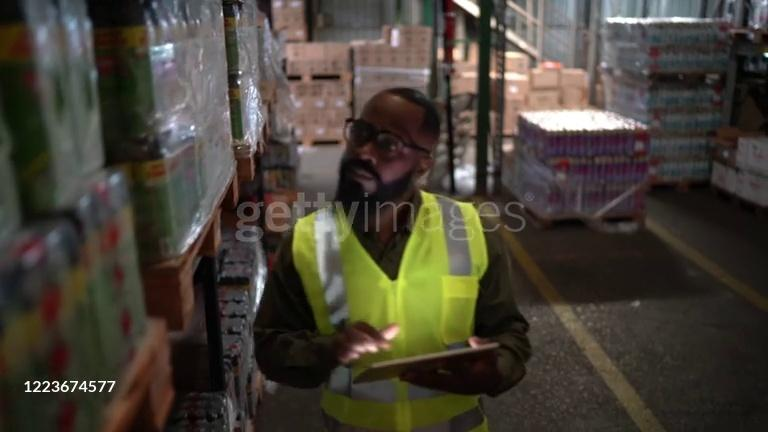person: (252, 87, 534, 432)
